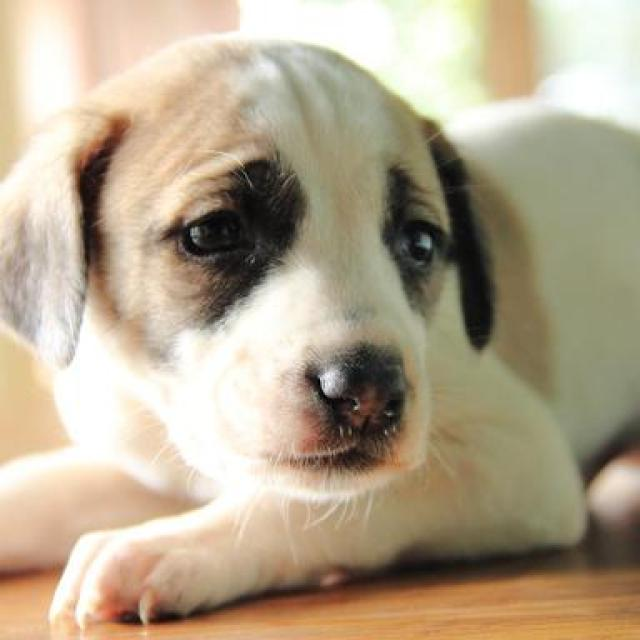sad: (4, 17, 640, 618)
